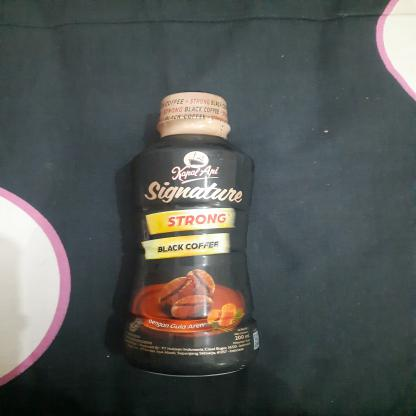bottle: (111, 88, 269, 383)
